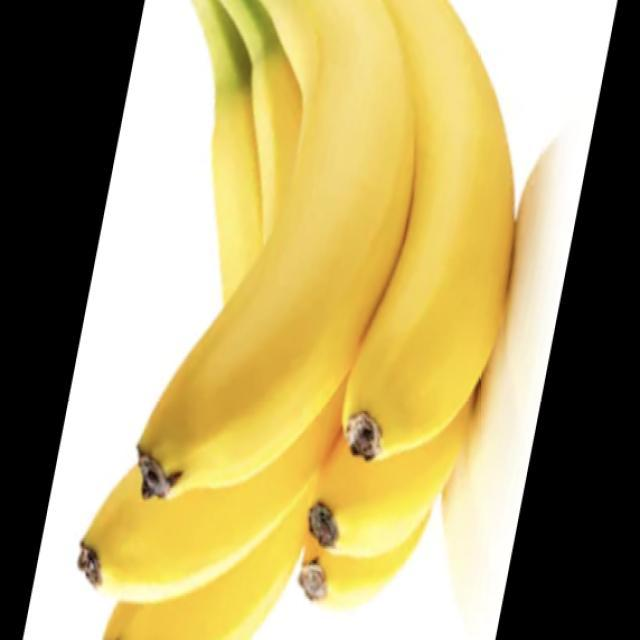Banana: (76, 0, 516, 639)
